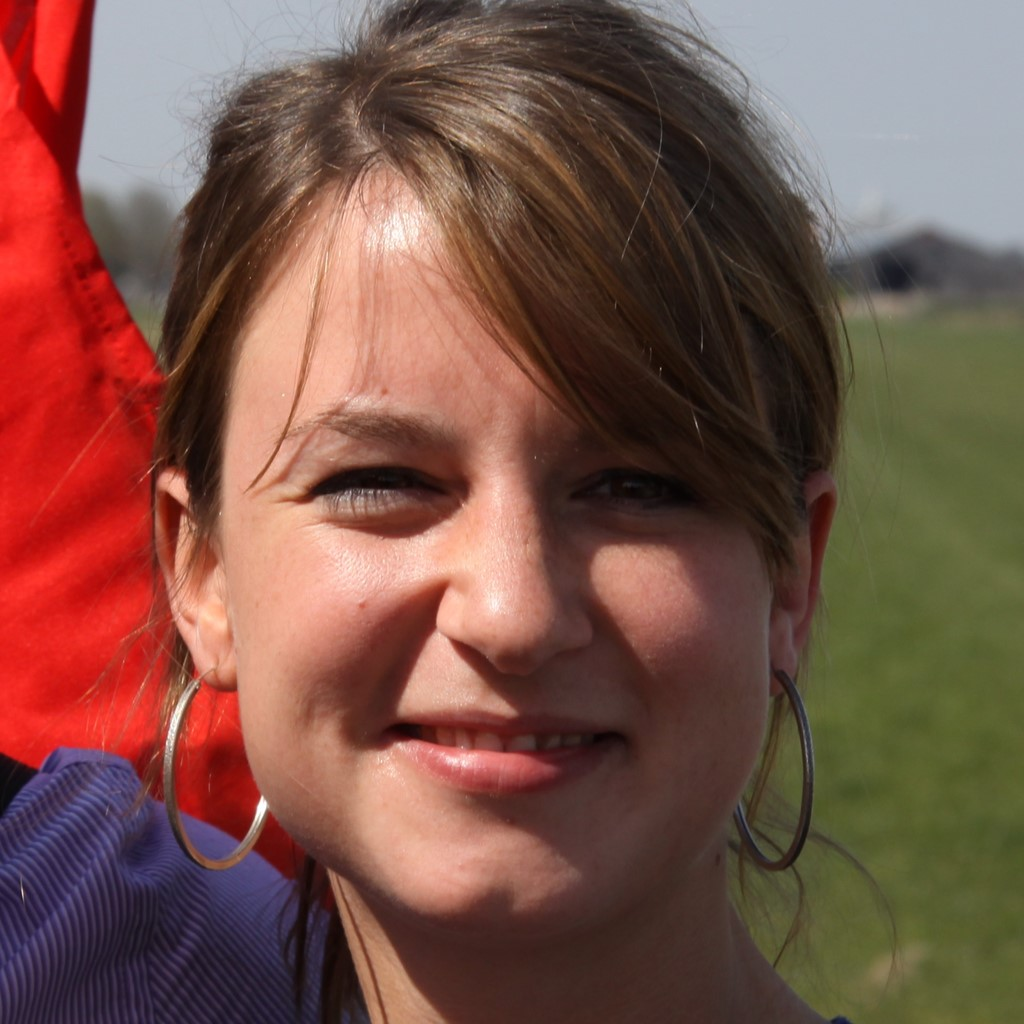sin_mascara: (197, 139, 823, 937)
